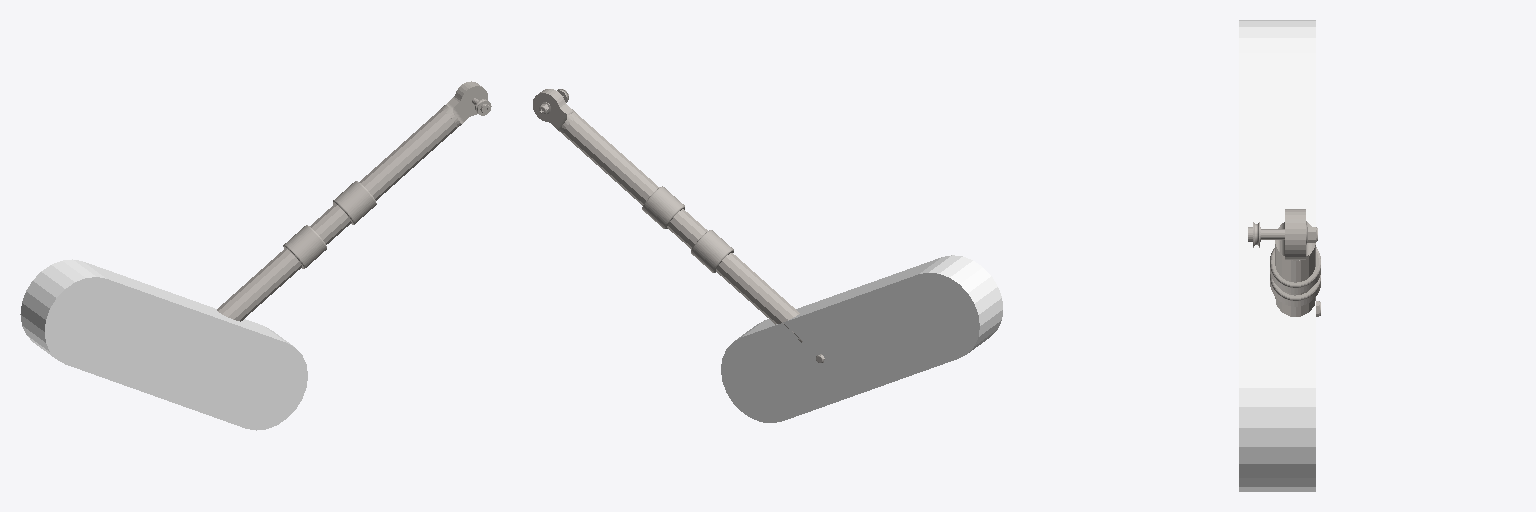
URDF robot description (flyhopper_robot_0_8):
<?xml version="1.0" encoding="utf-8"?>
<!-- This URDF was automatically created by SolidWorks to URDF Exporter! Originally created by [author] ([email redacted]) 
     Commit Version: 1.5.1-0-g916b5db  Build Version: 1.5.7152.31018
     For more information, please see http://wiki.ros.org/sw_urdf_exporter -->
<robot
  name="flyhopper_robot_0_8">
  <link
    name="base_link">
    <inertial>
      <origin
        xyz="7.65386448342151E-17 -6.22726278517758E-16 0.00394932816868779"
        rpy="0 0 0" />
      <mass
        value="7" />
      <inertia
        ixx="0.00241176433674345"
        ixy="5.25197372589959E-06"
        ixz="-4.38648201631998E-19"
        iyy="0.00439736891705812"
        iyz="-6.22912988612466E-19"
        izz="0.00224014055283729" />
    </inertial>
    <visual>
      <origin
        xyz="0 0 0"
        rpy="0 0 0" />
      <geometry>
        <mesh
          filename="package://flyhopper_robot_0_8/meshes/base_link.STL" />
      </geometry>
      <material
        name="">
        <color
          rgba="0.898039215686275 0.898039215686275 0.898039215686275 1" />
      </material>
    </visual>
    <collision>
      <origin
        xyz="0 0 0"
        rpy="0 0 0" />
      <geometry>
        <mesh
          filename="package://flyhopper_robot_0_8/meshes/base_link.STL" />
      </geometry>
    </collision>
  </link>
  <link
    name="Link 0">
    <inertial>
      <origin
        xyz="0.012752911848301 0.0182883341709308 0.00117942263488526"
        rpy="0 0 0" />
      <mass
        value="0.244971463222217" />
      <inertia
        ixx="3.80451720740565E-05"
        ixy="1.53797230167211E-05"
        ixz="-8.4831904167032E-06"
        iyy="0.000172566031790276"
        iyz="1.08265612865862E-06"
        izz="0.000148402606311374" />
    </inertial>
    <visual>
      <origin
        xyz="0 0 0"
        rpy="0 0 0" />
      <geometry>
        <mesh
          filename="package://flyhopper_robot_0_8/meshes/Link 0.STL" />
      </geometry>
      <material
        name="">
        <color
          rgba="0.898039215686275 0.898039215686275 0.898039215686275 1" />
      </material>
    </visual>
    <collision>
      <origin
        xyz="0 0 0"
        rpy="0 0 0" />
      <geometry>
        <mesh
          filename="package://flyhopper_robot_0_8/meshes/Link 0.STL" />
      </geometry>
    </collision>
  </link>
  <joint
    name="Joint 0"
    type="revolute">
    <origin
      xyz="0 0 0"
      rpy="0 0.523598775598301 0" />
    <parent
      link="base_link" />
    <child
      link="Link 0" />
    <axis
      xyz="0 -1 0" />
    <limit
      lower="-3.14"
      upper="3.14"
      effort="0"
      velocity="0" />
  </joint>
  <link
    name="Link 1">
    <inertial>
      <origin
        xyz="0.119442944913 0.00665085101309763 -9.34942508135084E-09"
        rpy="0 0 0" />
      <mass
        value="0.0650972153616673" />
      <inertia
        ixx="2.7496524256732E-06"
        ixy="7.98765186098289E-12"
        ixz="-1.47250083103979E-12"
        iyy="7.12721486062986E-05"
        iyz="1.30245040738491E-11"
        izz="7.11958057659531E-05" />
    </inertial>
    <visual>
      <origin
        xyz="0 0 0"
        rpy="0 0 0" />
      <geometry>
        <mesh
          filename="package://flyhopper_robot_0_8/meshes/Link 1.STL" />
      </geometry>
      <material
        name="">
        <color
          rgba="0.776470588235294 0.756862745098039 0.737254901960784 1" />
      </material>
    </visual>
    <collision>
      <origin
        xyz="0 0 0"
        rpy="0 0 0" />
      <geometry>
        <mesh
          filename="package://flyhopper_robot_0_8/meshes/Link 1.STL" />
      </geometry>
    </collision>
  </link>
  <joint
    name="Joint 1"
    type="revolute">
    <origin
      xyz="0.1 0 0"
      rpy="3.14159265358979 1.07990506315373 3.14159265358979" />
    <parent
      link="Link 0" />
    <child
      link="Link 1" />
    <axis
      xyz="0 -1 0" />
    <limit
      lower="-0.7597"
      upper="0.8295"
      effort="0"
      velocity="0" />
  </joint>
  <link
    name="Link 2">
    <inertial>
      <origin
        xyz="0.037044735010175 -0.0171981761588653 -0.000842647060208548"
        rpy="0 0 0" />
      <mass
        value="0.270342042053867" />
      <inertia
        ixx="3.38965194496247E-05"
        ixy="-2.73308437577649E-07"
        ixz="4.4617485101432E-06"
        iyy="0.000200435378359293"
        iyz="2.62652826357231E-08"
        izz="0.000181039886784663" />
    </inertial>
    <visual>
      <origin
        xyz="0 0 0"
        rpy="0 0 0" />
      <geometry>
        <mesh
          filename="package://flyhopper_robot_0_8/meshes/Link 2.STL" />
      </geometry>
      <material
        name="">
        <color
          rgba="0.898039215686275 0.898039215686275 0.898039215686275 1" />
      </material>
    </visual>
    <collision>
      <origin
        xyz="0 0 0"
        rpy="0 0 0" />
      <geometry>
        <mesh
          filename="package://flyhopper_robot_0_8/meshes/Link 2.STL" />
      </geometry>
    </collision>
  </link>
  <joint
    name="Joint 2"
    type="revolute">
    <origin
      xyz="0 0 0"
      rpy="3.14159265358979 0.556901288900623 3.14159265358979" />
    <parent
      link="base_link" />
    <child
      link="Link 2" />
    <axis
      xyz="0 -1 0" />
    <limit
      lower="-3.14"
      upper="3.14"
      effort="0"
      velocity="0" />
  </joint>
  <link
    name="Link 3">
    <inertial>
      <origin
        xyz="0.0892698828623962 -0.00261326630223191 -0.014627563581265"
        rpy="0 0 0" />
      <mass
        value="0.120054605531427" />
      <inertia
        ixx="1.58978724639423E-05"
        ixy="-5.56562752769298E-07"
        ixz="1.00362422316349E-06"
        iyy="8.275393759974E-05"
        iyz="1.0711934479786E-07"
        izz="7.91947432078267E-05" />
    </inertial>
    <visual>
      <origin
        xyz="0 0 0"
        rpy="0 0 0" />
      <geometry>
        <mesh
          filename="package://flyhopper_robot_0_8/meshes/Link 3.STL" />
      </geometry>
      <material
        name="">
        <color
          rgba="1 1 1 1" />
      </material>
    </visual>
    <collision>
      <origin
        xyz="0 0 0"
        rpy="0 0 0" />
      <geometry>
        <mesh
          filename="package://flyhopper_robot_0_8/meshes/Link 3.STL" />
      </geometry>
    </collision>
  </link>
  <joint
    name="Joint 3"
    type="revolute">
    <origin
      xyz="0.240266518683041 0 0"
      rpy="-3.14159265358979 -1.07747604639665 3.14159265358979" />
    <parent
      link="Link 2" />
    <child
      link="Link 3" />
    <axis
      xyz="0 -1 0" />
    <limit
      lower="-0.8295"
      upper="0.7597"
      effort="0"
      velocity="0" />
  </joint>
</robot>

--- Render facts (derived) ---
The picture shows the robot from 3 angles, left to right: view 1: azimuth 30°, elevation 25°; view 2: azimuth 150°, elevation 25°; view 3: azimuth 270°, elevation 25°; orthographic projection.
Robot: flyhopper_robot_0_8 — 5 links, 4 joints (4 revolute); root link base_link; default pose: every joint at zero.
Links seen in each view (by area): view 1: Link 3, Link 1; view 2: Link 3, Link 1; view 3: Link 3, Link 1.
Link boxes in pixels (bbox=[...]): Link 3: bbox=[20, 259, 307, 430]; Link 1: bbox=[217, 81, 491, 321]; Link 3: bbox=[721, 255, 1002, 422]; Link 1: bbox=[533, 89, 824, 362]; Link 3: bbox=[1239, 20, 1315, 491]; Link 1: bbox=[1248, 209, 1320, 316].
Bounding box of the posed robot: 0.3306 × 0.0321 × 0.1916 m (x, y, z).
2 mesh visuals loaded from 5 distinct referenced files (2 binary STL); not drawn: 3 (reference not matched to a file when rendering).